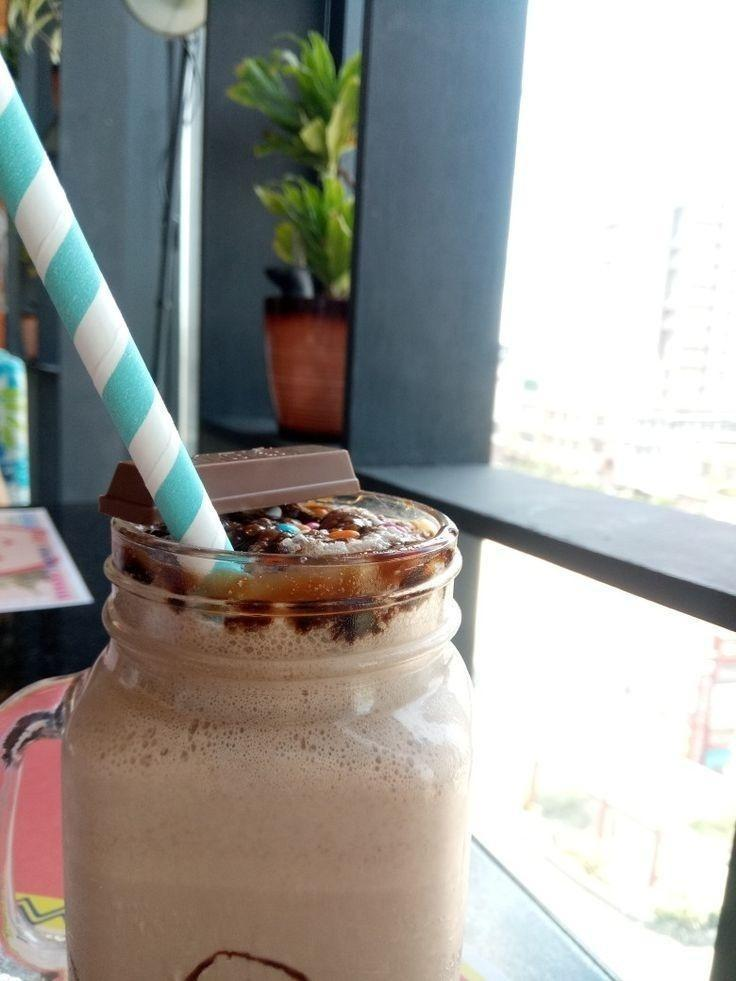glass-mug: (0, 464, 480, 980)
